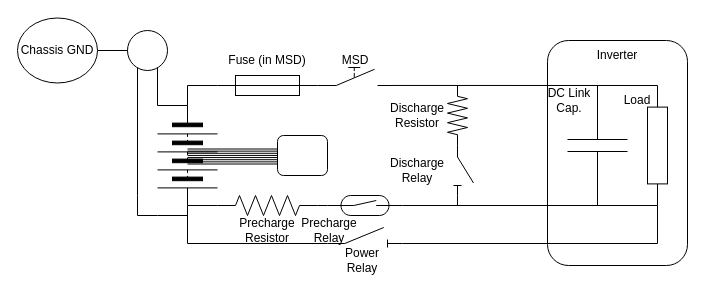
Image size: 705x292. Some labels were removed from this diagram. Each missing label, with the centre of its shape:
BMS: the point at 302,155
IMD: the point at 147,50
